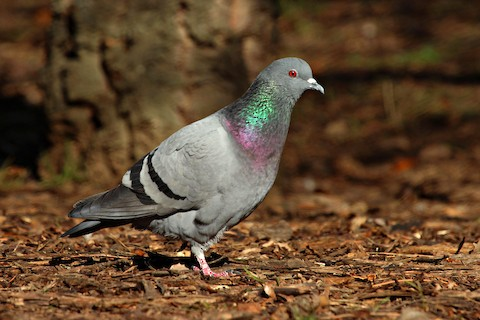pigeon: (57, 55, 328, 280)
